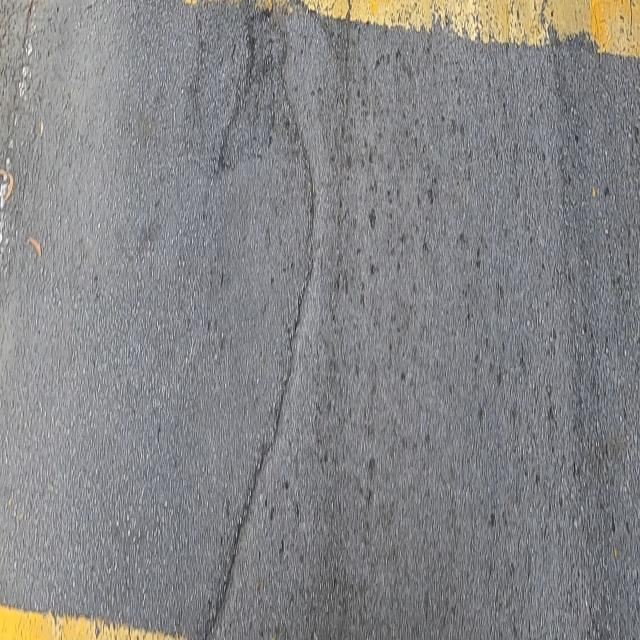Retak-Memanjang: (200, 71, 323, 640)
